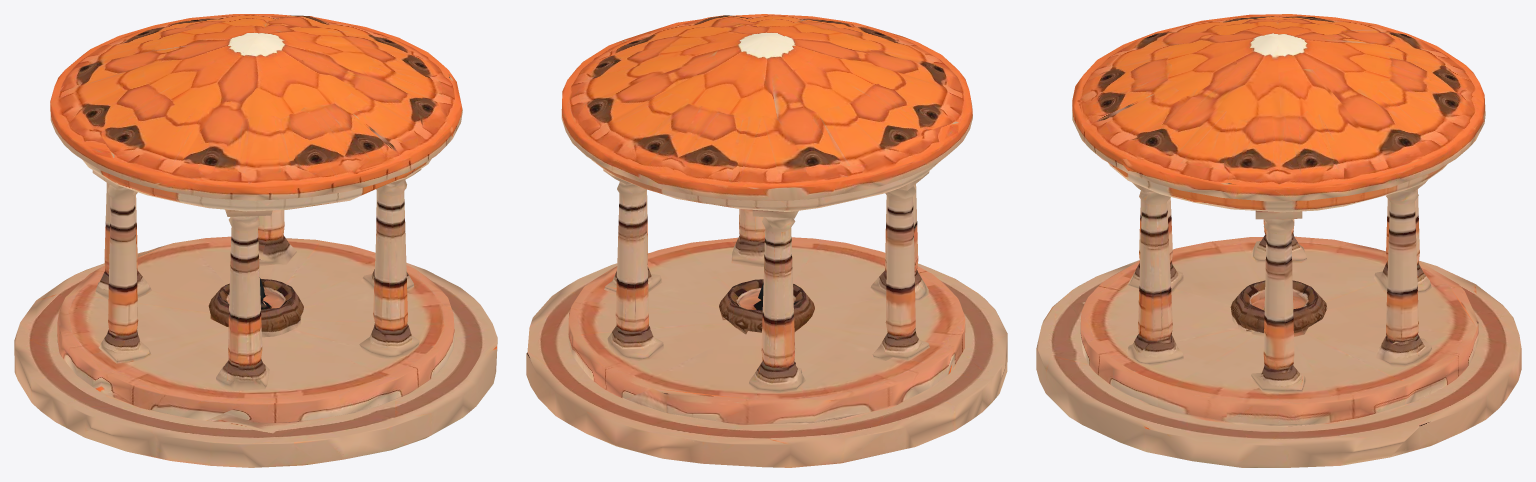
The model's file is temple_autumn.glb.
The picture shows the model from 3 angles, left to right: view 1: azimuth 30°, elevation 25°; view 2: azimuth 150°, elevation 25°; view 3: azimuth 270°, elevation 25°; orthographic projection.
Size of the model in its own units: 2 by 1.5 by 2.
Materials: 1 (1 with a texture image).
